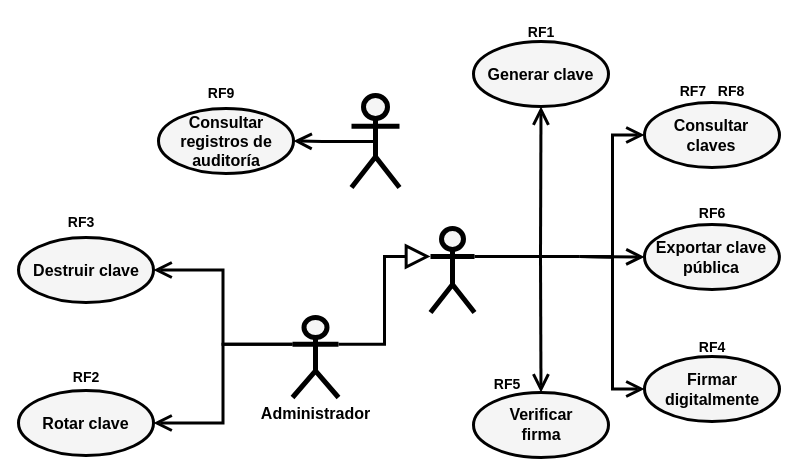
Some shapes in this 798 by 476 pixel diagram are drawn without their labels. Here are the shapes that lost their labels. From the top down, the centre of each, then its label:
[375,141]: Auditor
[452,270]: Usuario
